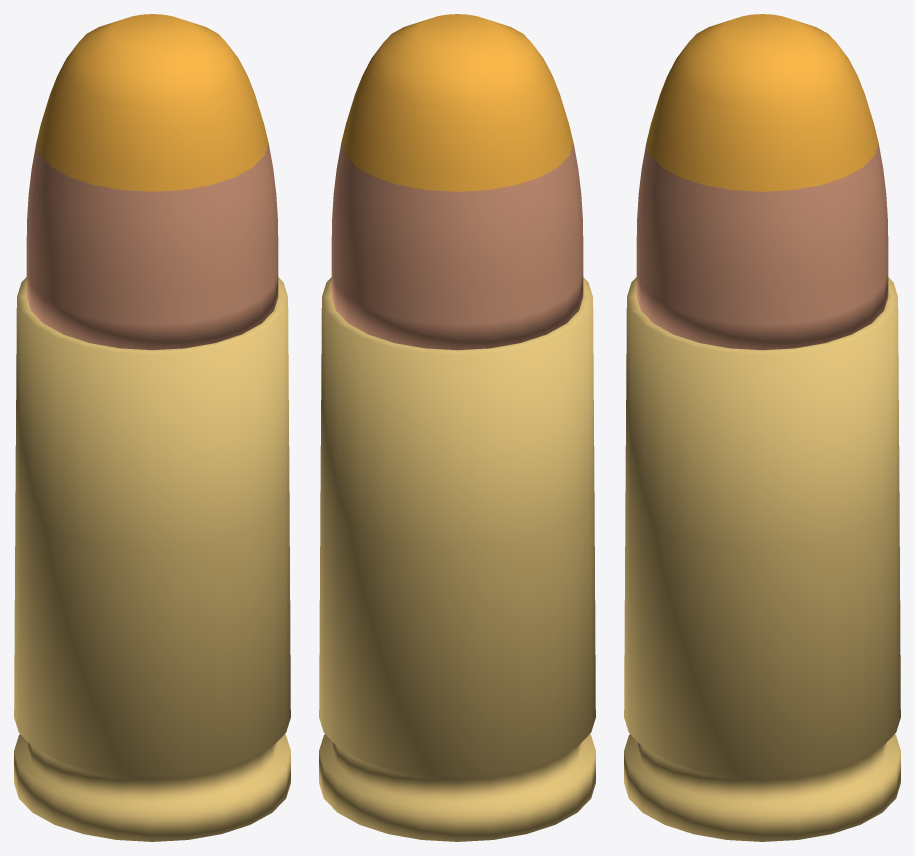
3 views of the same model, side by side, from view 1: azimuth 30°, elevation 25°; view 2: azimuth 150°, elevation 25°; view 3: azimuth 270°, elevation 25° (orthographic).
Visible parts, largest first — view 1: vaina, bala_cuerpo, punta; view 2: vaina, bala_cuerpo, punta; view 3: vaina, bala_cuerpo, punta.
Part boxes in pixels (x1=…): vaina: x1=14, y1=277, x2=290, y2=841; bala_cuerpo: x1=26, y1=143, x2=278, y2=350; punta: x1=36, y1=14, x2=268, y2=191; vaina: x1=319, y1=277, x2=595, y2=841; bala_cuerpo: x1=331, y1=143, x2=583, y2=350; punta: x1=341, y1=14, x2=573, y2=191; vaina: x1=624, y1=277, x2=900, y2=841; bala_cuerpo: x1=636, y1=143, x2=888, y2=350; punta: x1=646, y1=14, x2=878, y2=191.
Bounding box in the file's own units: 0.0099 × 0.0297 × 0.0099.
